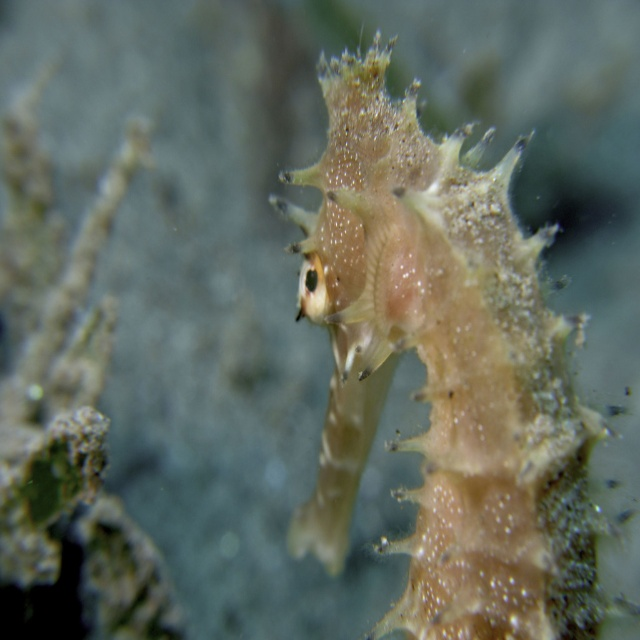Seahorse: (268, 20, 640, 639)
